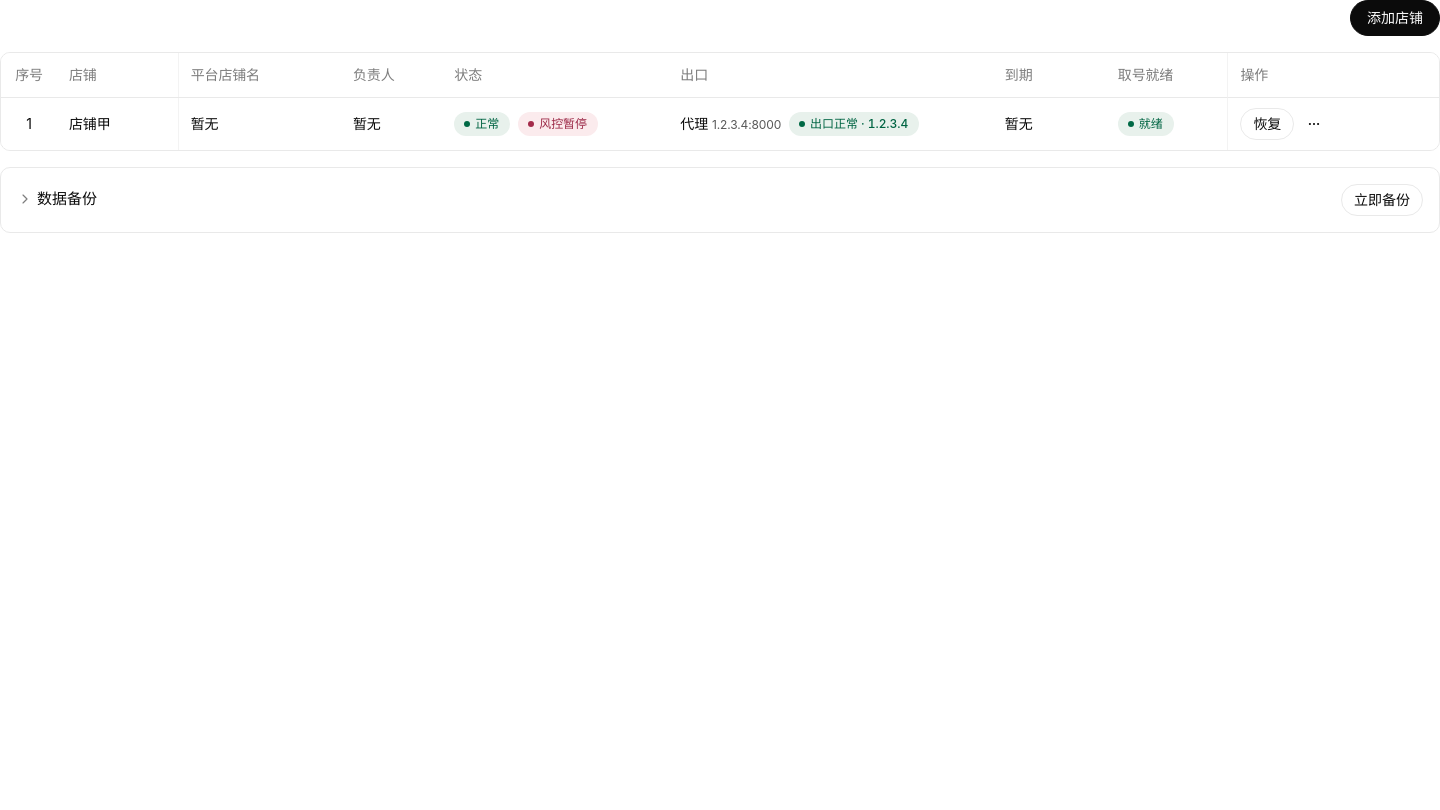
Scenario: 店铺与设置页 › 风控暂停：只显示风控暂停，恢复需要先确认
This screenshot has width=1440, height=810.
Check: the text "风控暂停" is shown, box [539,118,587,130]
Click the button "恢复". click: x=1267, y=124
box: [1240,108,1294,140]
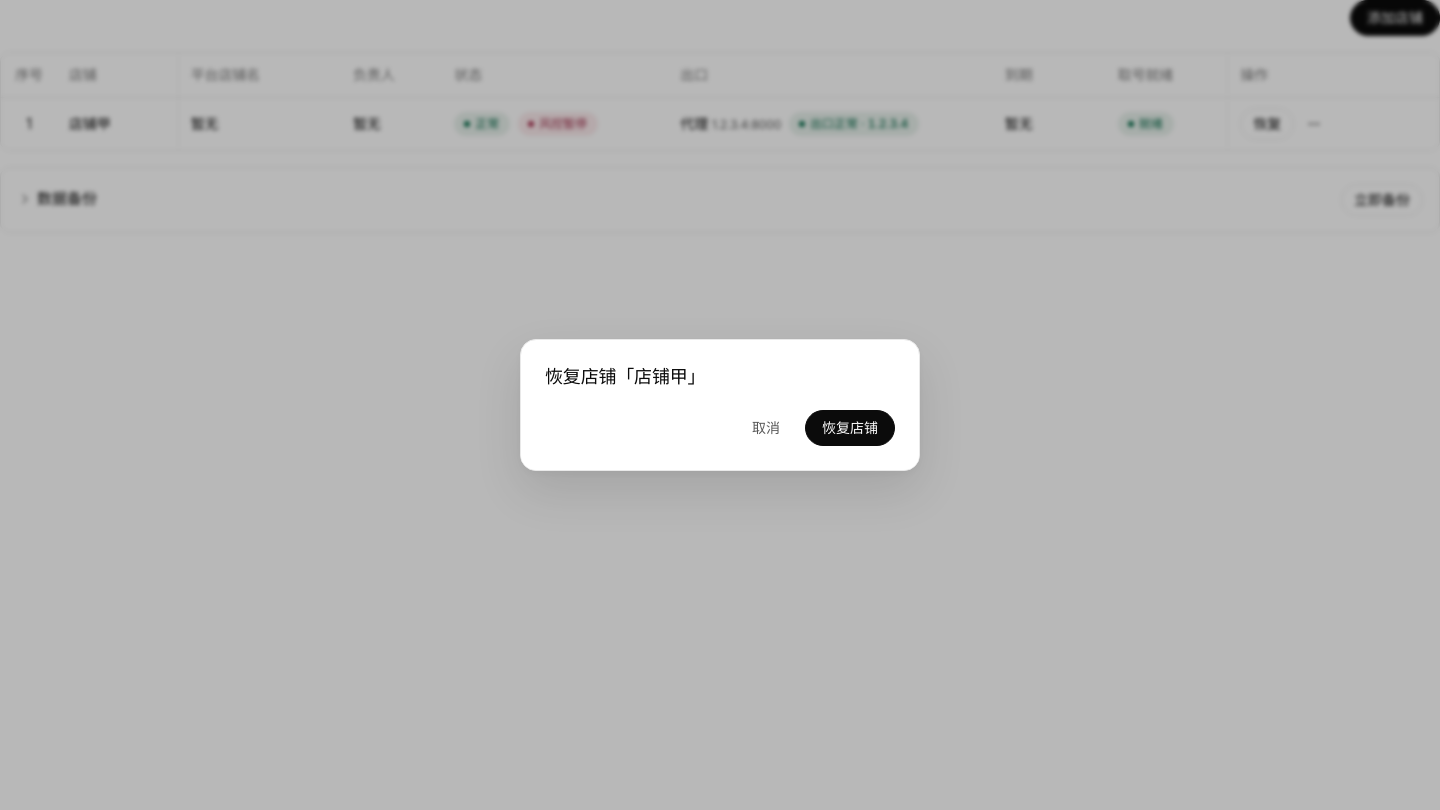
Click the button "恢复店铺". click: x=850, y=428
box: [805,410,895,446]
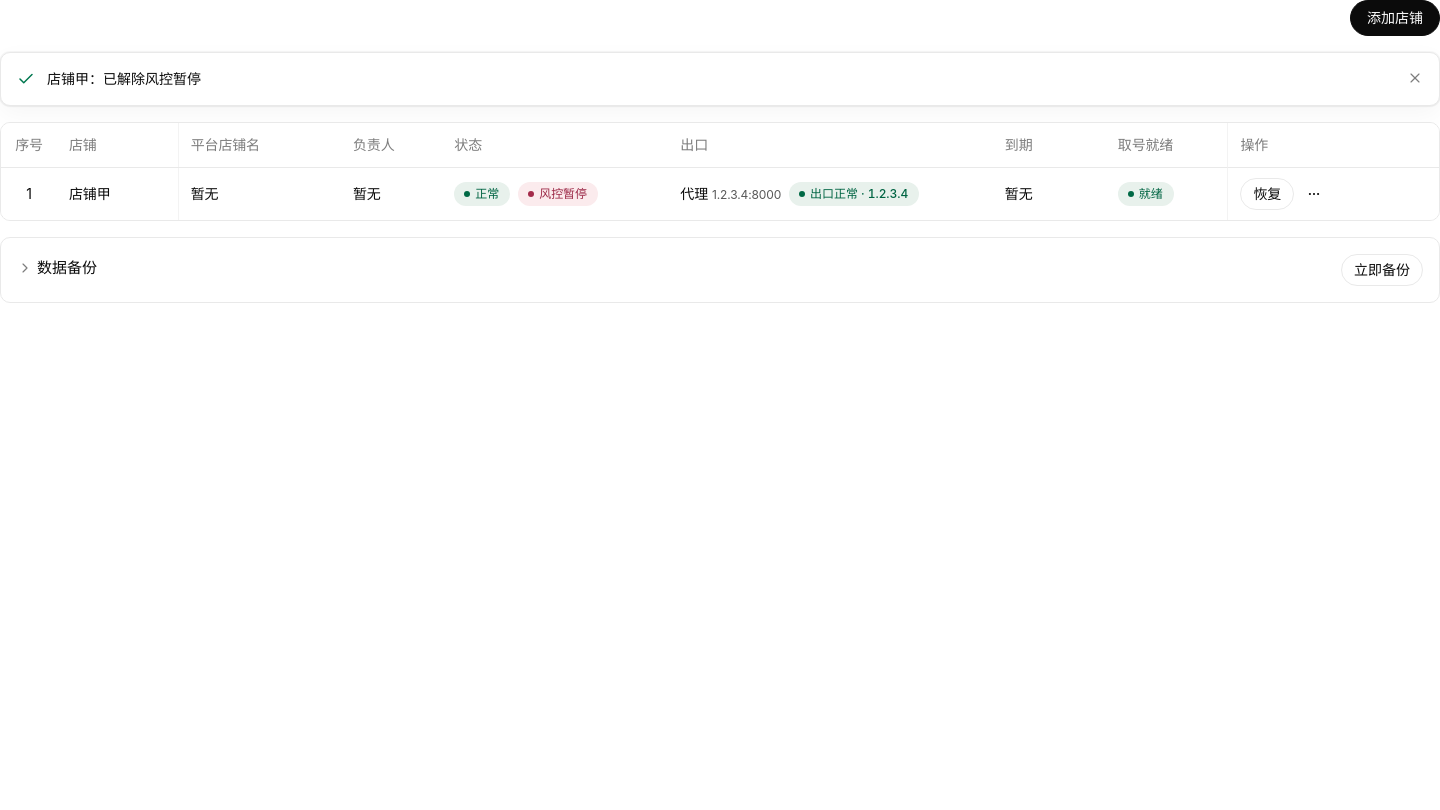
Check: the text "店铺甲：已解除风控暂停" is shown, box [47,70,201,87]
